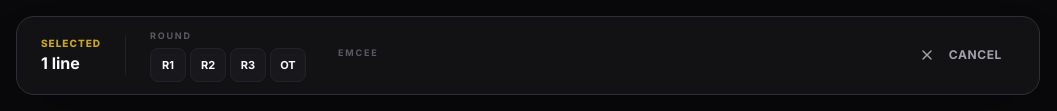
Test case: BatchActionBar › toggles round selection correctly
Check: the text "Apply" is not shown
Select R1
Click the button "R1": click(168, 65) x1=150 y1=48 x2=186 y2=82
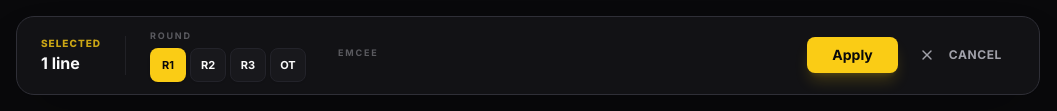
Check: the button "Apply" is shown, box x1=807 y1=37 x2=898 y2=73
Unselect R1 (click again)
Click the button "R1": click(168, 65) x1=150 y1=48 x2=186 y2=82
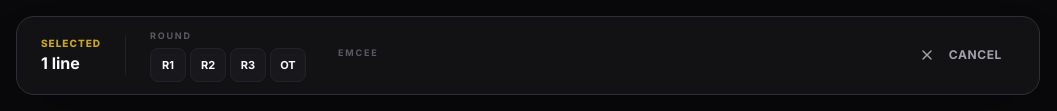
Check: the button "Apply" is gone
